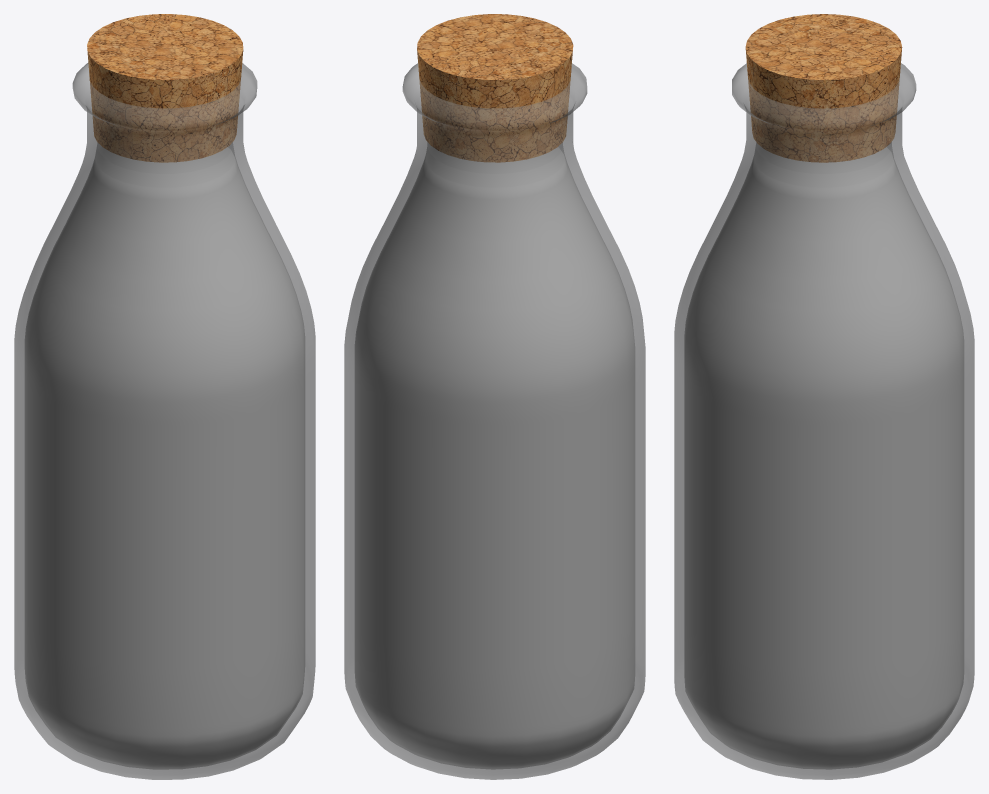
The model's file is MilkBottle.fbx.
3 views of the same model, side by side, from view 1: azimuth 30°, elevation 25°; view 2: azimuth 150°, elevation 25°; view 3: azimuth 270°, elevation 25° (orthographic).
Visible parts, largest first — view 1: Cube, Cube.001, Cylinder; view 2: Cube, Cube.001, Cylinder; view 3: Cube, Cube.001, Cylinder.
Part boxes in pixels (bbox=[...]): Cube: bbox=[14, 63, 315, 779]; Cube.001: bbox=[25, 147, 304, 767]; Cylinder: bbox=[87, 14, 243, 162]; Cube: bbox=[344, 63, 645, 779]; Cube.001: bbox=[355, 147, 634, 767]; Cylinder: bbox=[417, 14, 573, 162]; Cube: bbox=[674, 63, 974, 779]; Cube.001: bbox=[685, 147, 963, 767]; Cylinder: bbox=[745, 14, 902, 162].
Bounding box in the file's own units: 145 × 368 × 145.
